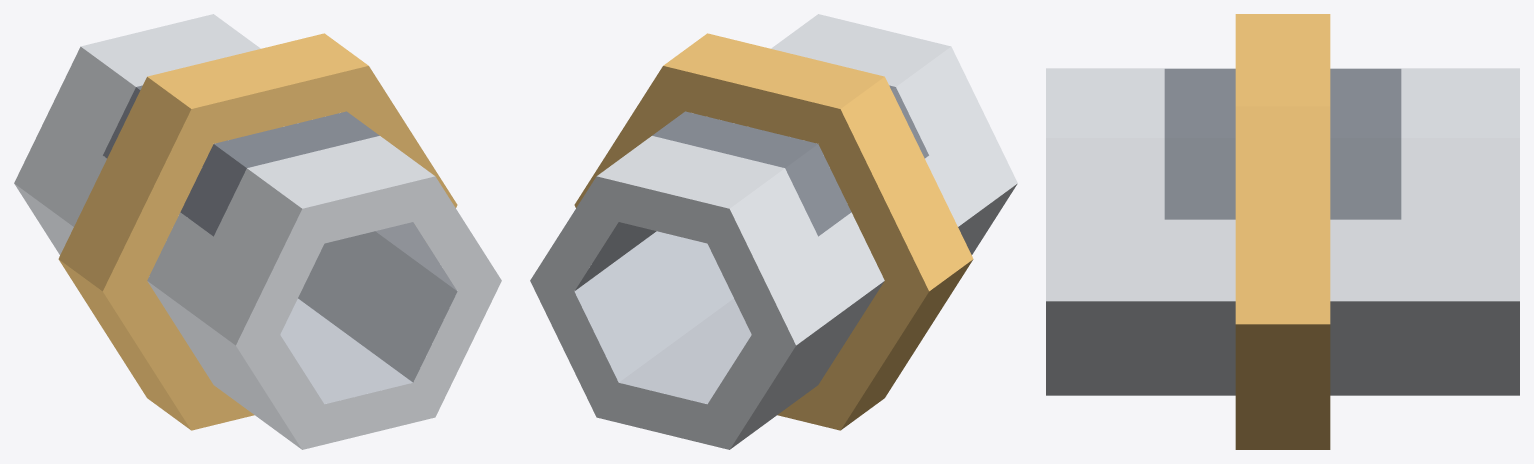
Rendered from pipe_ring.glb.
3 renders of one model, left to right at view 1: azimuth 30°, elevation 25°; view 2: azimuth 150°, elevation 25°; view 3: azimuth 270°, elevation 25°, orthographic. The views are drawn at different scales.
Visible parts, largest first — view 1: pipe_ring; view 2: pipe_ring; view 3: pipe_ring.
Boxes of the visible parts, left/top/right/bottom form: pipe_ring: left=14, top=14, right=501, bottom=449; pipe_ring: left=530, top=14, right=1017, bottom=449; pipe_ring: left=1046, top=14, right=1519, bottom=449.
Bounding box in the file's own units: 0.9238 × 0.8 × 1.
